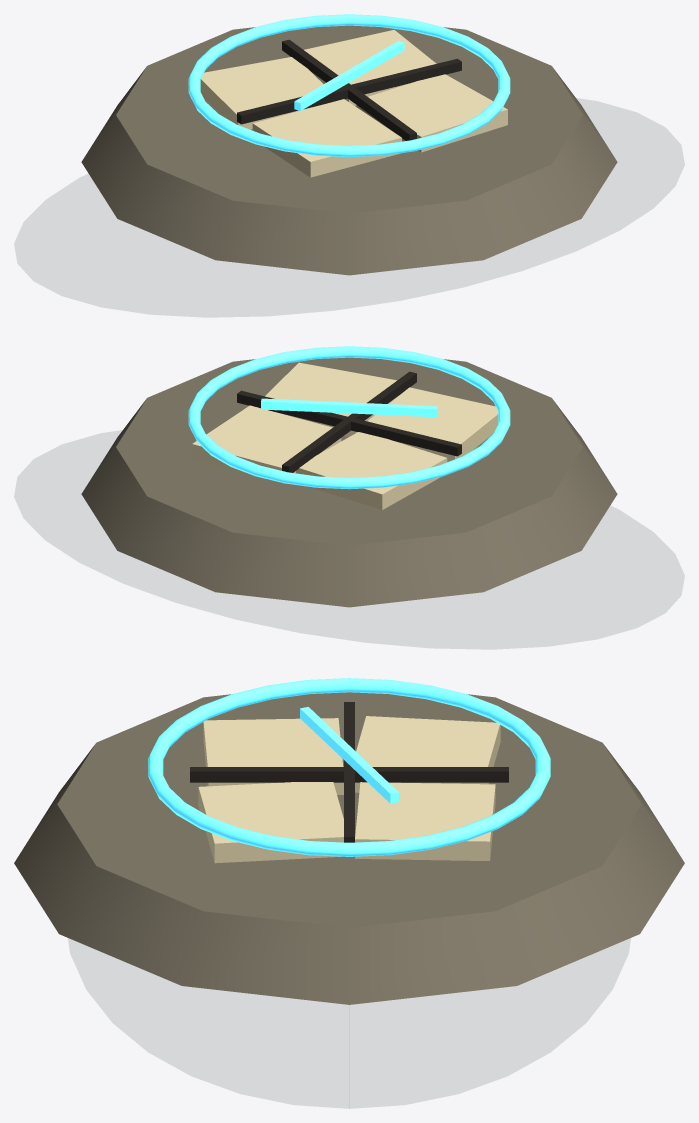
File: shared_puzzle.glb
3 views of the same model, one above another, from view 1: azimuth 30°, elevation 25°; view 2: azimuth 150°, elevation 25°; view 3: azimuth 270°, elevation 25° (orthographic). The views are drawn at different scales.
Visible parts, largest first — view 1: puzzle_round_table, soft_ground_shadow, puzzle_glow_ring, puzzle_tile_2, puzzle_tile_3, puzzle_tile_0, puzzle_tile_1, puzzle_cross_gap_x, puzzle_cross_gap_z, puzzle_glyph_line; view 2: puzzle_round_table, soft_ground_shadow, puzzle_glow_ring, puzzle_tile_0, puzzle_tile_1, puzzle_tile_2, puzzle_tile_3, puzzle_cross_gap_x, puzzle_glyph_line, puzzle_cross_gap_z; view 3: puzzle_round_table, soft_ground_shadow, puzzle_glow_ring, puzzle_tile_3, puzzle_tile_1, puzzle_tile_0, puzzle_tile_2, puzzle_cross_gap_z, puzzle_glyph_line, puzzle_cross_gap_x.
Boxes of the visible parts, box(x1,y1,x2,y2) form: puzzle_round_table: box(81, 25, 617, 275); soft_ground_shadow: box(15, 99, 684, 316); puzzle_glow_ring: box(188, 14, 510, 157); puzzle_tile_2: box(252, 99, 401, 177); puzzle_tile_3: box(356, 74, 507, 152); puzzle_tile_0: box(200, 57, 323, 129); puzzle_tile_1: box(304, 30, 436, 105); puzzle_cross_gap_x: box(237, 58, 461, 124); puzzle_cross_gap_z: box(282, 39, 416, 140); puzzle_glyph_line: box(294, 41, 404, 110); puzzle_round_table: box(81, 357, 617, 607); soft_ground_shadow: box(14, 431, 683, 648); puzzle_glow_ring: box(188, 346, 510, 489); puzzle_tile_0: box(296, 432, 447, 509); puzzle_tile_1: box(192, 405, 341, 483); puzzle_tile_2: box(367, 387, 498, 461); puzzle_tile_3: box(265, 362, 397, 436); puzzle_cross_gap_x: box(237, 390, 461, 456); puzzle_glyph_line: box(261, 398, 437, 417); puzzle_cross_gap_z: box(282, 371, 416, 472); puzzle_round_table: box(14, 692, 684, 1004); soft_ground_shadow: box(69, 939, 630, 1108); puzzle_glow_ring: box(148, 678, 550, 856); puzzle_tile_3: box(198, 782, 343, 863); puzzle_tile_1: box(355, 782, 495, 860); puzzle_tile_0: box(355, 716, 500, 792); puzzle_tile_2: box(203, 718, 343, 794); puzzle_cross_gap_z: box(190, 767, 508, 782); puzzle_glyph_line: box(300, 707, 398, 803); puzzle_cross_gap_x: box(344, 702, 354, 842).
Size of the model in its own units: 3.38 by 0.675 by 2.48.
